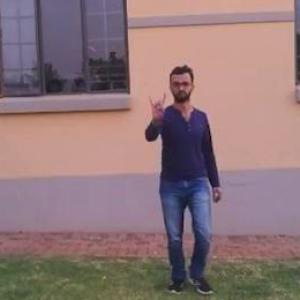takeoff-hand: (143, 83, 174, 126)
